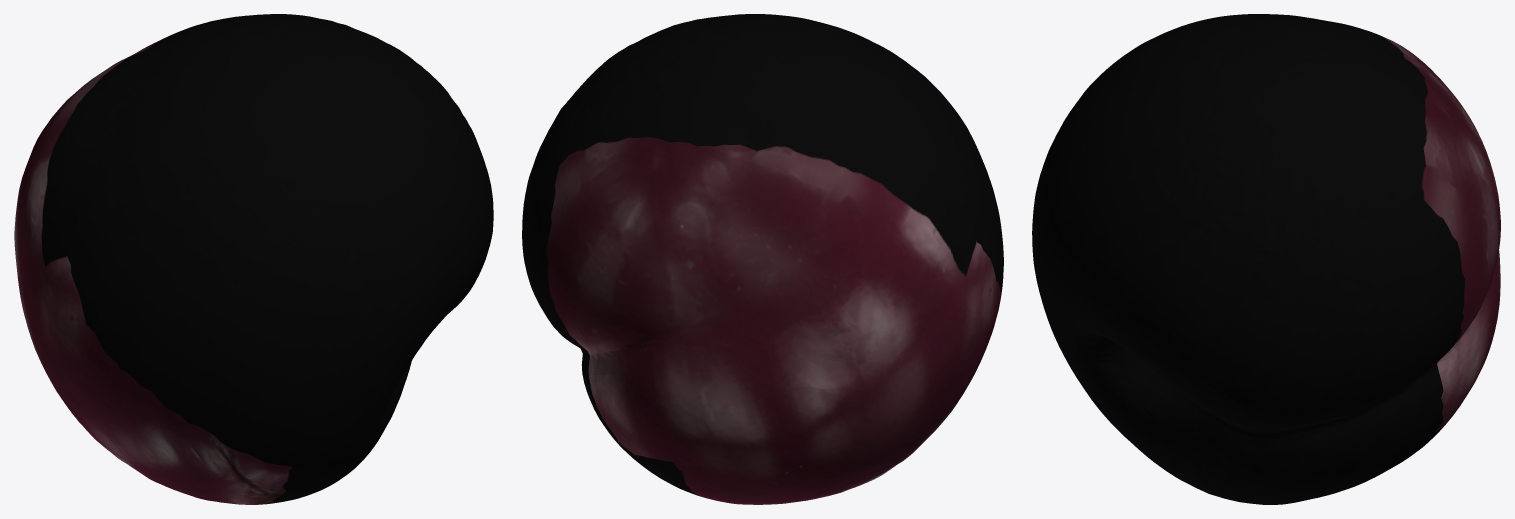
3 renders of one model, left to right at view 1: azimuth 30°, elevation 25°; view 2: azimuth 150°, elevation 25°; view 3: azimuth 270°, elevation 25°, orthographic. The views are drawn at different scales.
Parts seen in each view (by area): view 1: node; view 2: node; view 3: node.
Part boxes in pixels (x1,y1,x2,y2): node: (14, 14, 493, 504); node: (522, 14, 1003, 504); node: (1032, 14, 1500, 504).
Size of the model in its own units: 0.0621 by 0.0626 by 0.0586.
